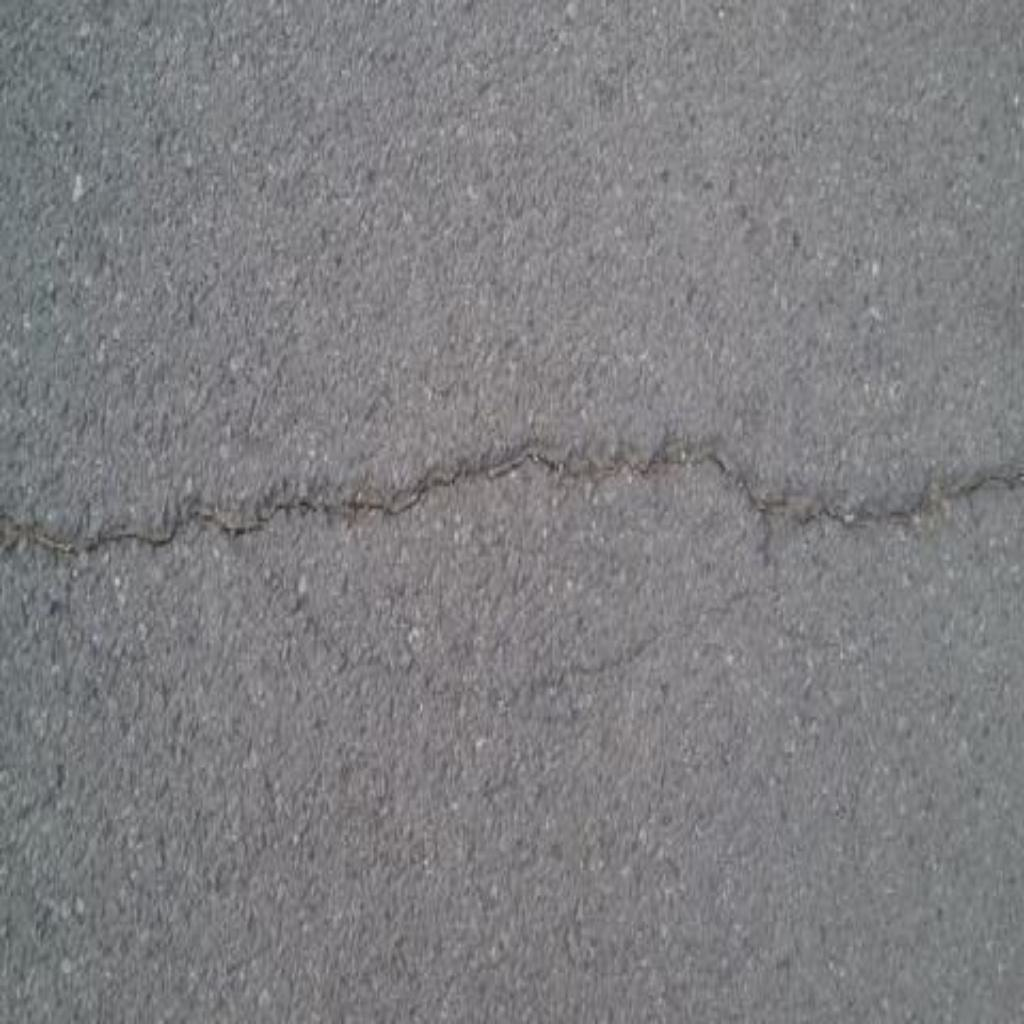Crack: (1, 435, 1024, 556)
